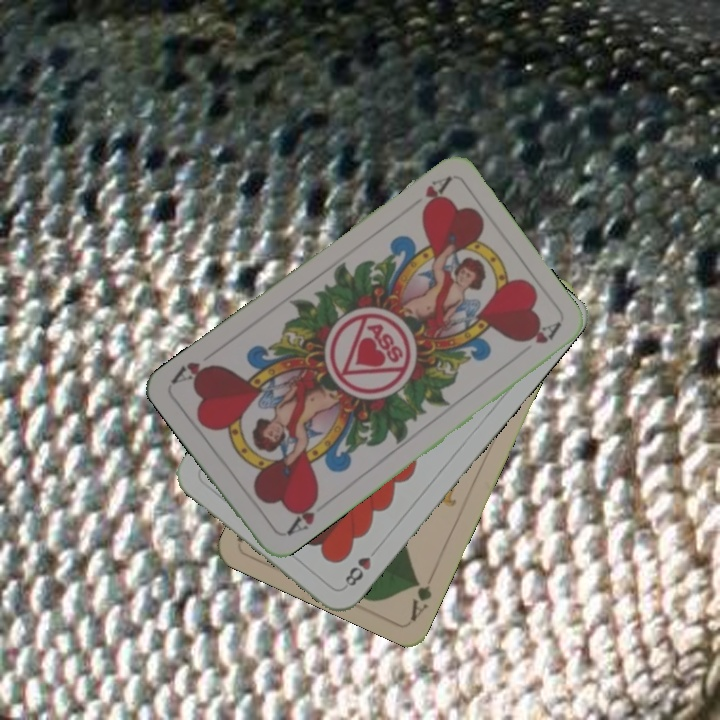GA: (406, 574, 435, 623)
H8: (341, 552, 374, 589)
HA: (282, 491, 322, 539), (418, 173, 453, 215)
